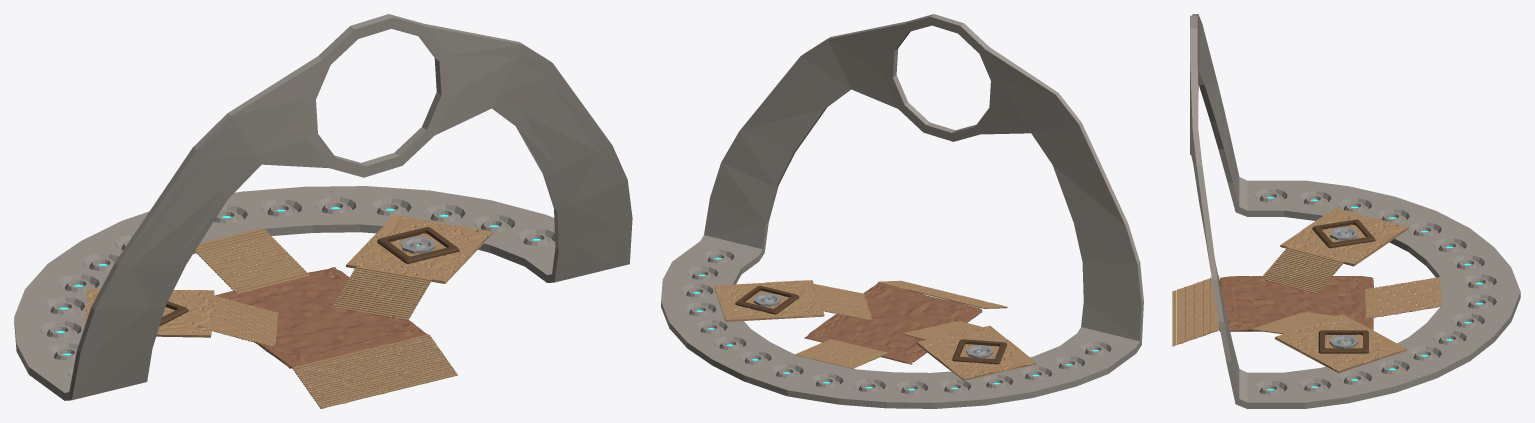
The model's file is boss alanı.fbx.
3 views of the same model, side by side, from view 1: azimuth 30°, elevation 25°; view 2: azimuth 150°, elevation 25°; view 3: azimuth 270°, elevation 25° (orthographic). The views are drawn at different scales.
Visible parts, largest first — view 1: Retopo_Pyramid.001; view 2: Retopo_Pyramid.001; view 3: Retopo_Pyramid.001.
Part boxes in pixels (x1,y1,x2,y2): Retopo_Pyramid.001: [14, 14, 632, 408]; Retopo_Pyramid.001: [661, 14, 1143, 408]; Retopo_Pyramid.001: [1172, 14, 1520, 408].
Bounding box in the file's own units: 16321 × 10165 × 10820.
